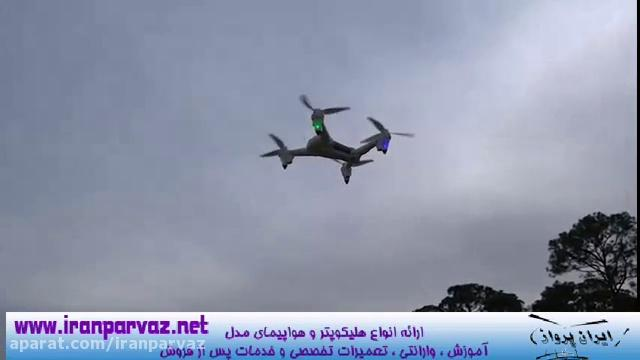drone: (255, 91, 418, 185)
